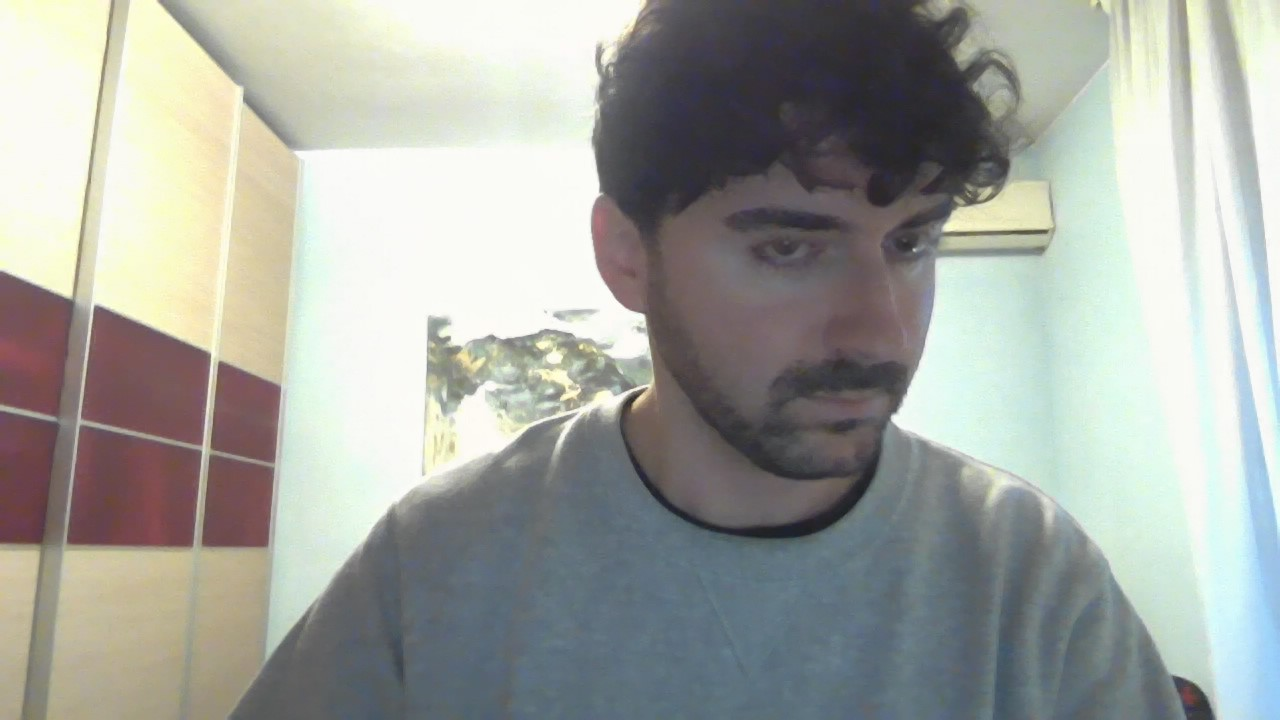NoGlasses: (617, 182, 991, 292)
